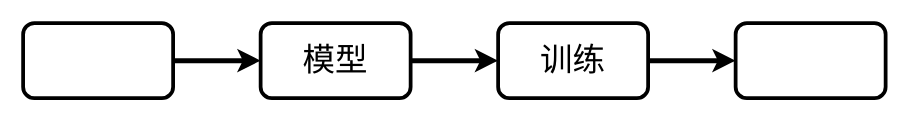
The diagram is 909 pixels wide and 121 high, and some of its shapes have lost their labels. The shapes that lost their labels are listed below. From the top down, each one's box as (x1, y1, x2, y2) in pixels, then its label:
(21, 21, 174, 99): 任务/数据
(733, 21, 887, 99): 评估
